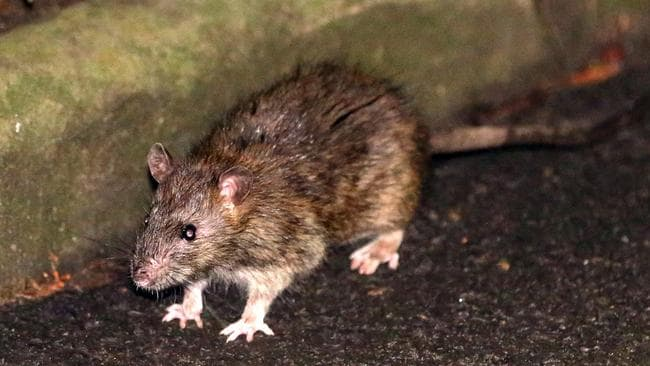rat: (109, 44, 485, 354)
